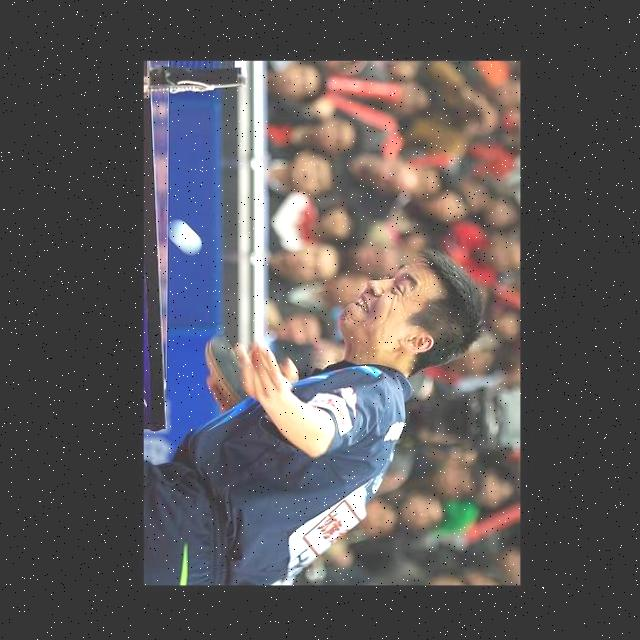ping-pong-ball: (166, 218, 202, 256)
